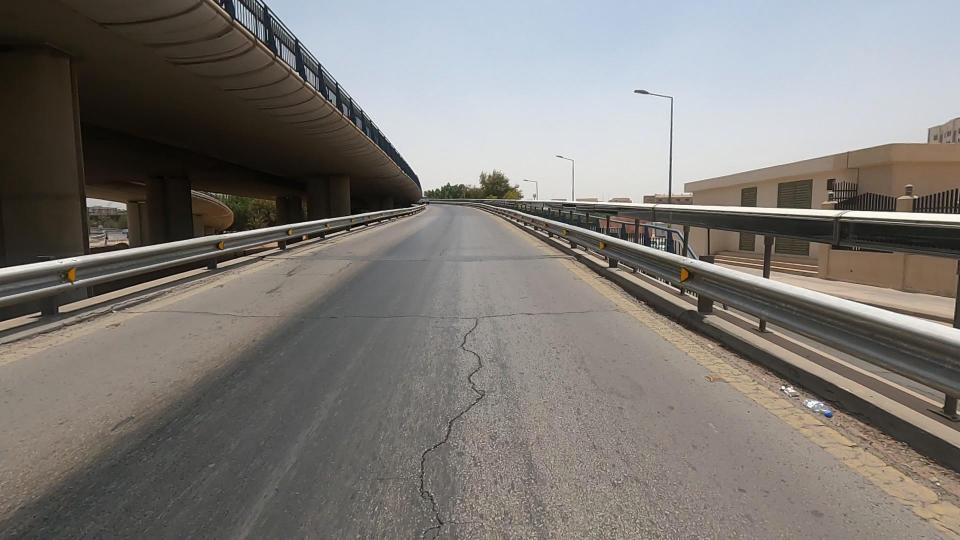GARBAGE: (710, 351, 904, 450)
